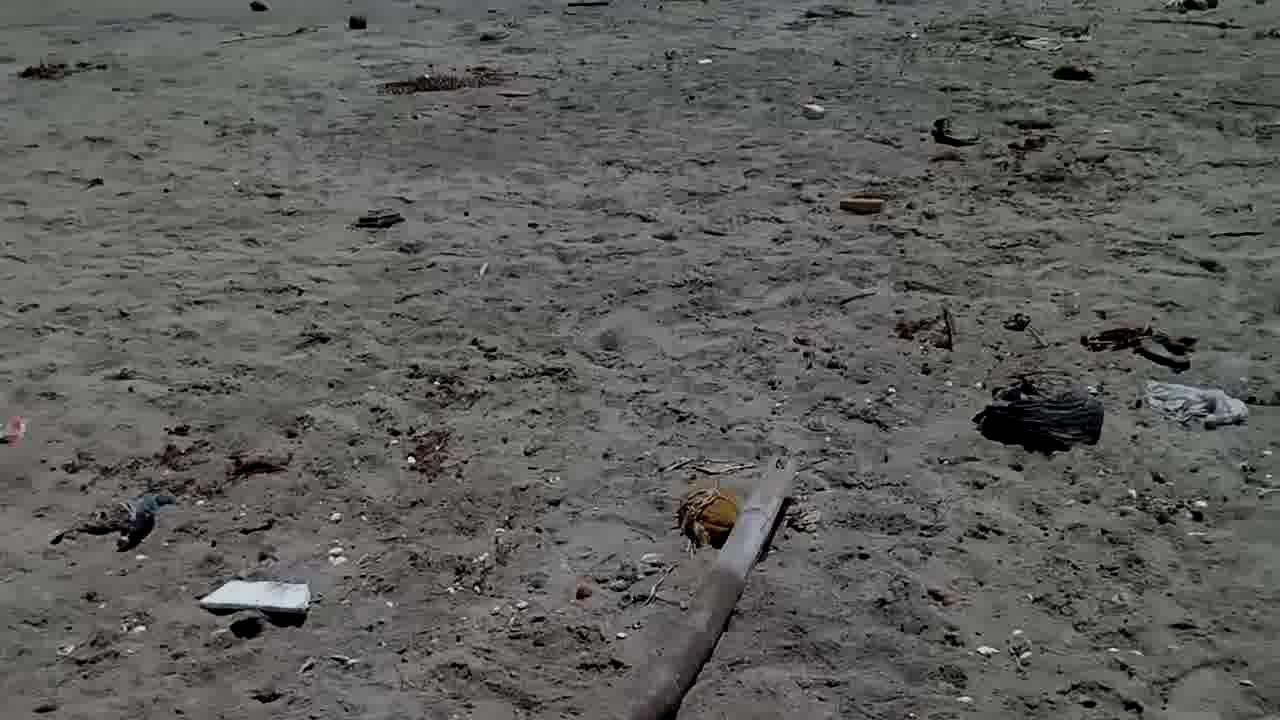large collection of objects: (45, 442, 293, 558)
obj: (626, 442, 793, 720), (976, 375, 1108, 454), (1079, 320, 1201, 373), (1139, 378, 1254, 428), (369, 60, 515, 98), (674, 487, 744, 550), (196, 575, 312, 610), (17, 52, 113, 82), (352, 202, 407, 231), (1, 412, 28, 454), (839, 191, 879, 212), (342, 13, 368, 38), (800, 101, 826, 120), (458, 69, 460, 77)
